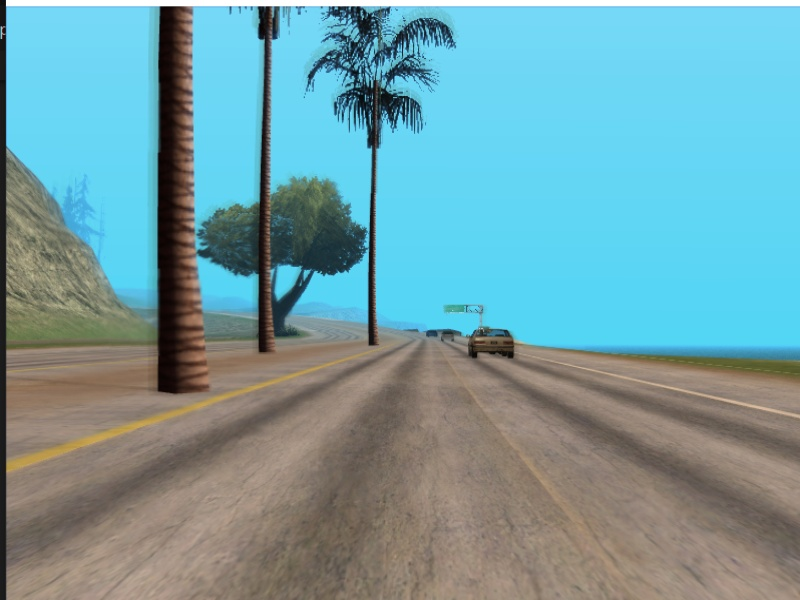tree: (148, 9, 214, 399), (257, 15, 283, 356), (367, 82, 383, 350)
vehicle: (467, 326, 517, 361), (440, 330, 454, 342)
